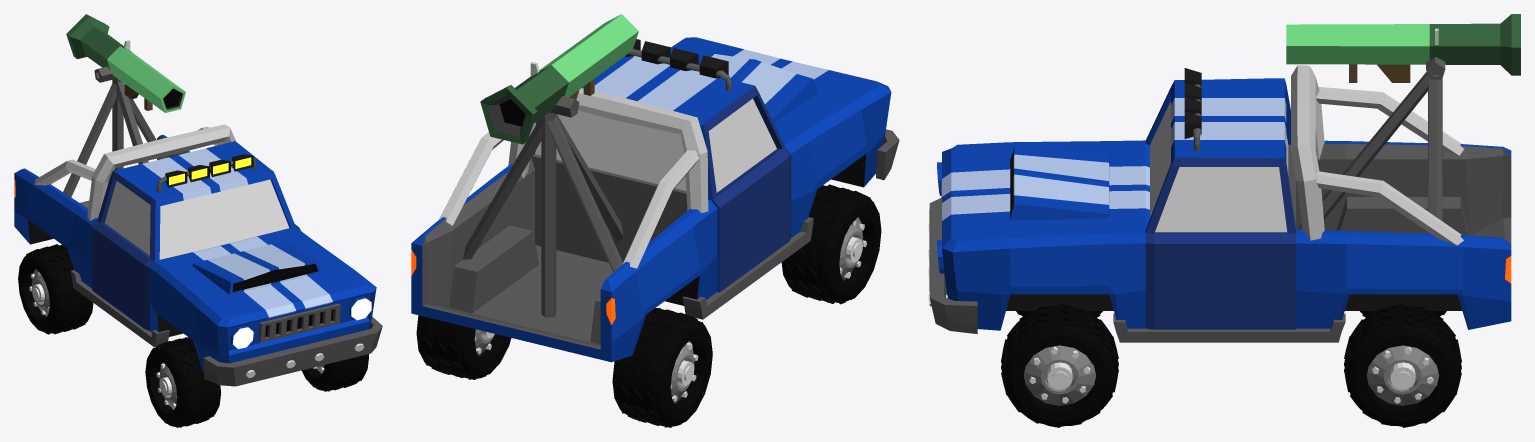
Rendered from Car1.fbx.
3 renders of one model, left to right at view 1: azimuth 30°, elevation 25°; view 2: azimuth 150°, elevation 25°; view 3: azimuth 270°, elevation 25°, orthographic. The views are drawn at different scales.
Visible parts, largest first — view 1: Кузов, Колесо перед правое, Колесо зад правое, Орудие, Опора пушки, Колесо перед левое; view 2: Кузов, Колесо зад правое, Опора пушки, Колесо перед правое, Орудие, Колесо зад левое; view 3: Кузов, Колесо зад левое, Колесо перед левое, Орудие, Опора пушки.
Boxes of the visible parts, bbox=[...] form: Кузов: bbox=[14, 124, 382, 386]; Колесо перед правое: bbox=[145, 337, 220, 427]; Колесо зад правое: bbox=[18, 244, 93, 334]; Орудие: bbox=[66, 14, 185, 112]; Опора пушки: bbox=[63, 78, 166, 197]; Колесо перед левое: bbox=[301, 354, 368, 391]; Кузов: bbox=[411, 37, 899, 362]; Колесо зад правое: bbox=[612, 308, 712, 427]; Опора пушки: bbox=[463, 112, 623, 317]; Колесо перед правое: bbox=[781, 184, 881, 304]; Орудие: bbox=[480, 14, 638, 144]; Колесо зад левое: bbox=[416, 315, 511, 379]; Кузов: bbox=[928, 65, 1511, 342]; Колесо зад левое: bbox=[1344, 304, 1461, 427]; Колесо перед левое: bbox=[1001, 304, 1118, 427]; Орудие: bbox=[1286, 14, 1520, 82]; Опора пушки: bbox=[1297, 71, 1442, 233].
Bounding box in the file's own units: 2.75 × 3.68 × 5.54.
